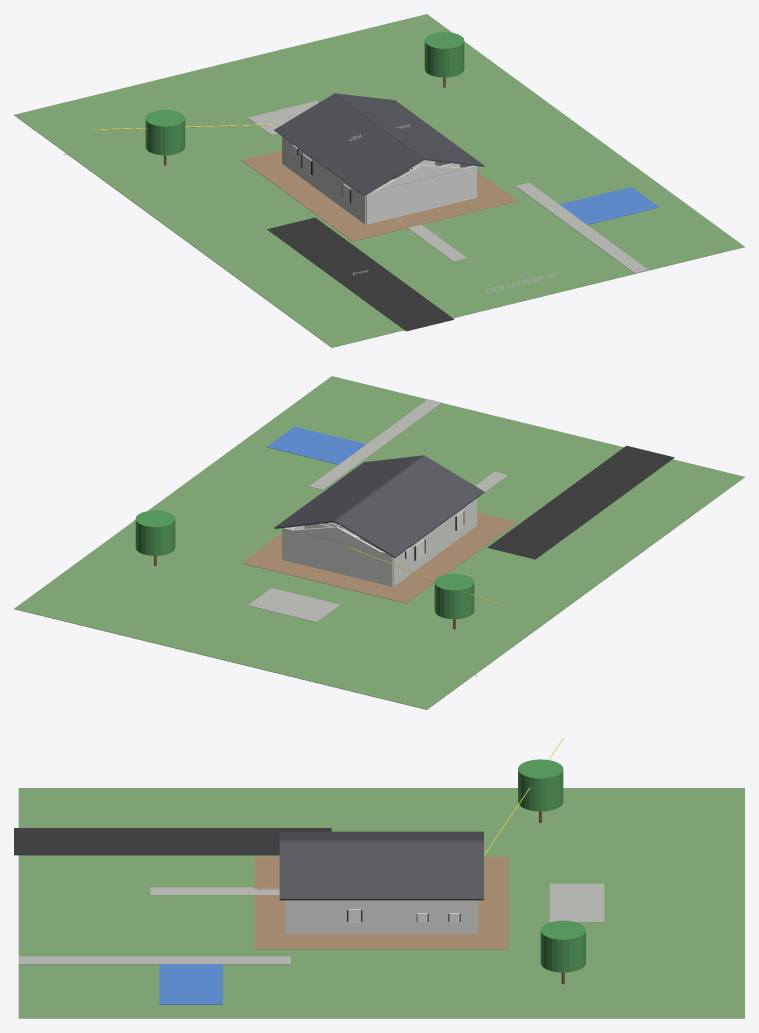
The model's file is USDA_1BEDROOM_001.glb.
3 renders of one model, top to bottom at view 1: azimuth 30°, elevation 25°; view 2: azimuth 150°, elevation 25°; view 3: azimuth 270°, elevation 25°, orthographic. The views are drawn at different scales.
Parts seen in each view (by area): view 1: USDA_1BEDROOM_001_SITE_PARCEL, USDA_1BEDROOM_001_MAIN_HOUSE_ROOF_GABLE_LEFT, USDA_1BEDROOM_001_ZONE_DRIVEWAY, USDA_1BEDROOM_001_ZONE_BUILD_PAD, USDA_1BEDROOM_001_MAIN_HOUSE_L1_EXT_WALL_SOUTH, USDA_1BEDROOM_001_MAIN_HOUSE_ROOF_GABLE_RIGHT, USDA_1BEDROOM_001_RETENTION_SW_01, USDA_1BEDROOM_001_MAIN_HOUSE_L1_EXT_WALL_WEST, USDA_1BEDROOM_001_SIDEWALK_SIDE_01, USDA_1BEDROOM_001_TREE_OAK_01_CANOPY, USDA_1BEDROOM_001_TREE_OAK_02_CANOPY, USDA_1BEDROOM_001_ZONE_PATIO (+2 smaller); view 2: USDA_1BEDROOM_001_SITE_PARCEL, USDA_1BEDROOM_001_MAIN_HOUSE_ROOF_GABLE_LEFT, USDA_1BEDROOM_001_ZONE_DRIVEWAY, USDA_1BEDROOM_001_ZONE_BUILD_PAD, USDA_1BEDROOM_001_MAIN_HOUSE_L1_EXT_WALL_NORTH, USDA_1BEDROOM_001_MAIN_HOUSE_ROOF_GABLE_RIGHT, USDA_1BEDROOM_001_RETENTION_SW_01, USDA_1BEDROOM_001_MAIN_HOUSE_L1_EXT_WALL_WEST, USDA_1BEDROOM_001_SIDEWALK_SIDE_01, USDA_1BEDROOM_001_TREE_OAK_01_CANOPY, USDA_1BEDROOM_001_TREE_OAK_02_CANOPY, USDA_1BEDROOM_001_ZONE_PATIO (+1 smaller); view 3: USDA_1BEDROOM_001_SITE_PARCEL, USDA_1BEDROOM_001_MAIN_HOUSE_ROOF_GABLE_RIGHT, USDA_1BEDROOM_001_ZONE_BUILD_PAD, USDA_1BEDROOM_001_ZONE_DRIVEWAY, USDA_1BEDROOM_001_MAIN_HOUSE_L1_EXT_WALL_EAST, USDA_1BEDROOM_001_RETENTION_SW_01, USDA_1BEDROOM_001_SIDEWALK_SIDE_01, USDA_1BEDROOM_001_TREE_OAK_01_CANOPY, USDA_1BEDROOM_001_TREE_OAK_02_CANOPY, USDA_1BEDROOM_001_ZONE_PATIO, USDA_1BEDROOM_001_MAIN_HOUSE_ROOF_GABLE_LEFT, USDA_1BEDROOM_001_ZONE_FRONT_WALK.
Boxes of the visible parts, left/top/right/bottom form: USDA_1BEDROOM_001_SITE_PARCEL: left=14, top=14, right=744, bottom=347; USDA_1BEDROOM_001_MAIN_HOUSE_ROOF_GABLE_LEFT: left=274, top=94, right=424, bottom=195; USDA_1BEDROOM_001_ZONE_DRIVEWAY: left=267, top=217, right=454, bottom=331; USDA_1BEDROOM_001_ZONE_BUILD_PAD: left=241, top=150, right=517, bottom=241; USDA_1BEDROOM_001_MAIN_HOUSE_L1_EXT_WALL_SOUTH: left=366, top=165, right=476, bottom=224; USDA_1BEDROOM_001_MAIN_HOUSE_ROOF_GABLE_RIGHT: left=336, top=93, right=484, bottom=166; USDA_1BEDROOM_001_RETENTION_SW_01: left=559, top=187, right=659, bottom=224; USDA_1BEDROOM_001_MAIN_HOUSE_L1_EXT_WALL_WEST: left=282, top=136, right=365, bottom=224; USDA_1BEDROOM_001_SIDEWALK_SIDE_01: left=515, top=182, right=648, bottom=273; USDA_1BEDROOM_001_TREE_OAK_01_CANOPY: left=145, top=110, right=185, bottom=155; USDA_1BEDROOM_001_TREE_OAK_02_CANOPY: left=424, top=32, right=464, bottom=77; USDA_1BEDROOM_001_ZONE_PATIO: left=248, top=101, right=318, bottom=135; USDA_1BEDROOM_001_SITE_PARCEL: left=14, top=376, right=744, bottom=709; USDA_1BEDROOM_001_MAIN_HOUSE_ROOF_GABLE_LEFT: left=334, top=456, right=484, bottom=557; USDA_1BEDROOM_001_ZONE_DRIVEWAY: left=487, top=445, right=674, bottom=559; USDA_1BEDROOM_001_ZONE_BUILD_PAD: left=241, top=512, right=517, bottom=603; USDA_1BEDROOM_001_MAIN_HOUSE_L1_EXT_WALL_NORTH: left=282, top=527, right=392, bottom=586; USDA_1BEDROOM_001_MAIN_HOUSE_ROOF_GABLE_RIGHT: left=274, top=455, right=422, bottom=528; USDA_1BEDROOM_001_RETENTION_SW_01: left=267, top=426, right=366, bottom=464; USDA_1BEDROOM_001_MAIN_HOUSE_L1_EXT_WALL_WEST: left=393, top=498, right=476, bottom=586; USDA_1BEDROOM_001_SIDEWALK_SIDE_01: left=309, top=399, right=441, bottom=489; USDA_1BEDROOM_001_TREE_OAK_01_CANOPY: left=434, top=573, right=474, bottom=619; USDA_1BEDROOM_001_TREE_OAK_02_CANOPY: left=135, top=510, right=175, bottom=555; USDA_1BEDROOM_001_ZONE_PATIO: left=248, top=588, right=339, bottom=622; USDA_1BEDROOM_001_SITE_PARCEL: left=18, top=788, right=744, bottom=1018; USDA_1BEDROOM_001_MAIN_HOUSE_ROOF_GABLE_RIGHT: left=279, top=841, right=483, bottom=900; USDA_1BEDROOM_001_ZONE_BUILD_PAD: left=254, top=856, right=508, bottom=949; USDA_1BEDROOM_001_ZONE_DRIVEWAY: left=14, top=828, right=331, bottom=855; USDA_1BEDROOM_001_MAIN_HOUSE_L1_EXT_WALL_EAST: left=286, top=900, right=476, bottom=933; USDA_1BEDROOM_001_RETENTION_SW_01: left=159, top=964, right=222, bottom=1004; USDA_1BEDROOM_001_SIDEWALK_SIDE_01: left=18, top=956, right=290, bottom=964; USDA_1BEDROOM_001_TREE_OAK_01_CANOPY: left=518, top=759, right=563, bottom=811; USDA_1BEDROOM_001_TREE_OAK_02_CANOPY: left=540, top=920, right=585, bottom=972; USDA_1BEDROOM_001_ZONE_PATIO: left=549, top=883, right=604, bottom=922; USDA_1BEDROOM_001_MAIN_HOUSE_ROOF_GABLE_LEFT: left=279, top=831, right=483, bottom=840; USDA_1BEDROOM_001_ZONE_FRONT_WALK: left=150, top=887, right=279, bottom=895.
Size of the model in its own units: 36.59 by 7.06 by 49.07.
